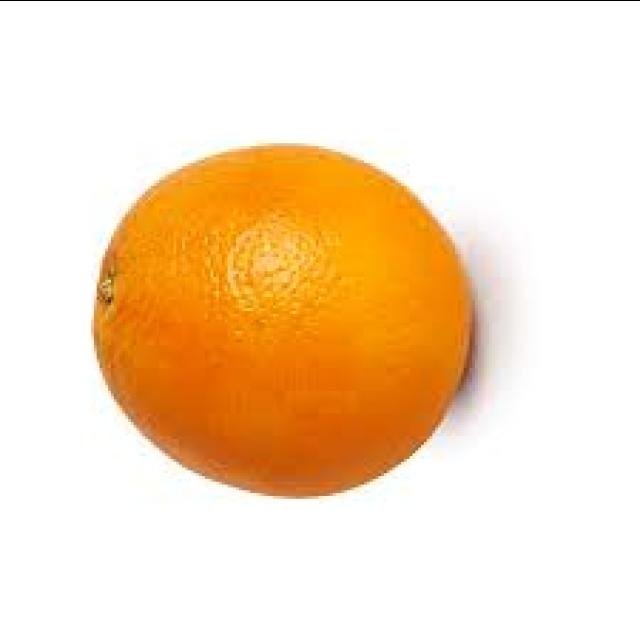orange: (77, 127, 464, 498)
